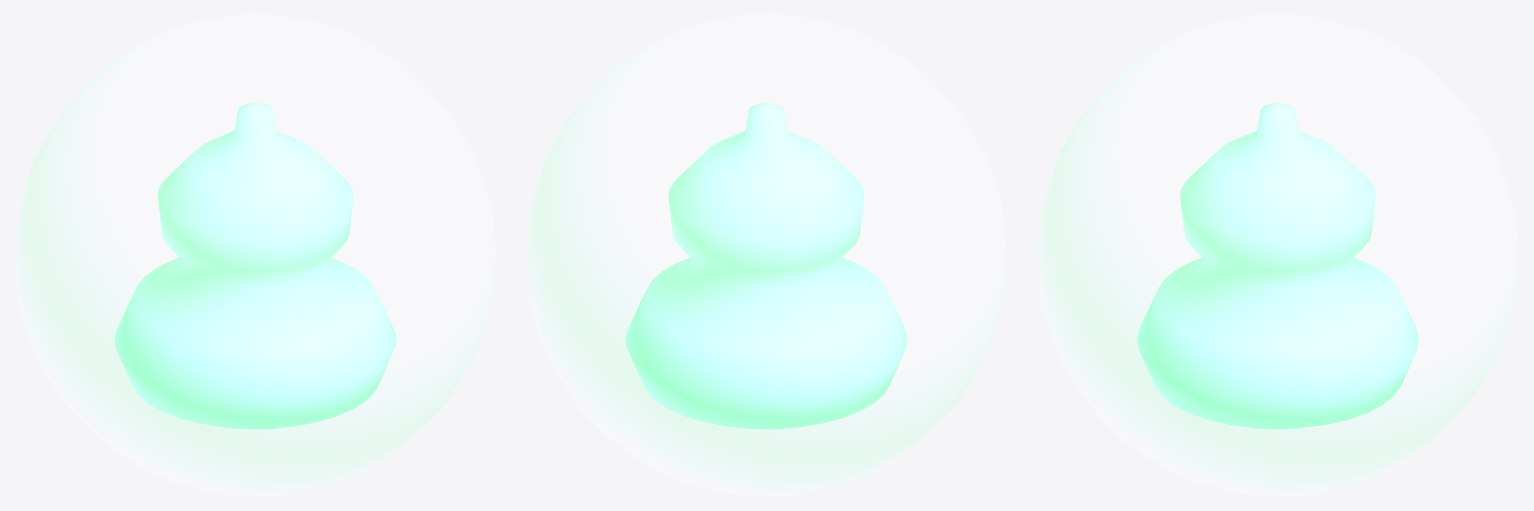
The model's file is Orb_04_翠绿灵珠.glb.
3 views of the same model, side by side, from view 1: azimuth 30°, elevation 25°; view 2: azimuth 150°, elevation 25°; view 3: azimuth 270°, elevation 25° (orthographic).
Visible parts, largest first — view 1: Sphere, SpiritGourd; view 2: Sphere, SpiritGourd; view 3: Sphere, SpiritGourd.
Boxes of the visible parts, bbox=[...] form: Sphere: bbox=[14, 14, 496, 496]; SpiritGourd: bbox=[114, 103, 396, 429]; Sphere: bbox=[525, 14, 1007, 496]; SpiritGourd: bbox=[625, 103, 907, 429]; Sphere: bbox=[1036, 14, 1519, 496]; SpiritGourd: bbox=[1137, 103, 1418, 429].
Bounding box in the file's own units: 0.96 × 0.96 × 0.96.
